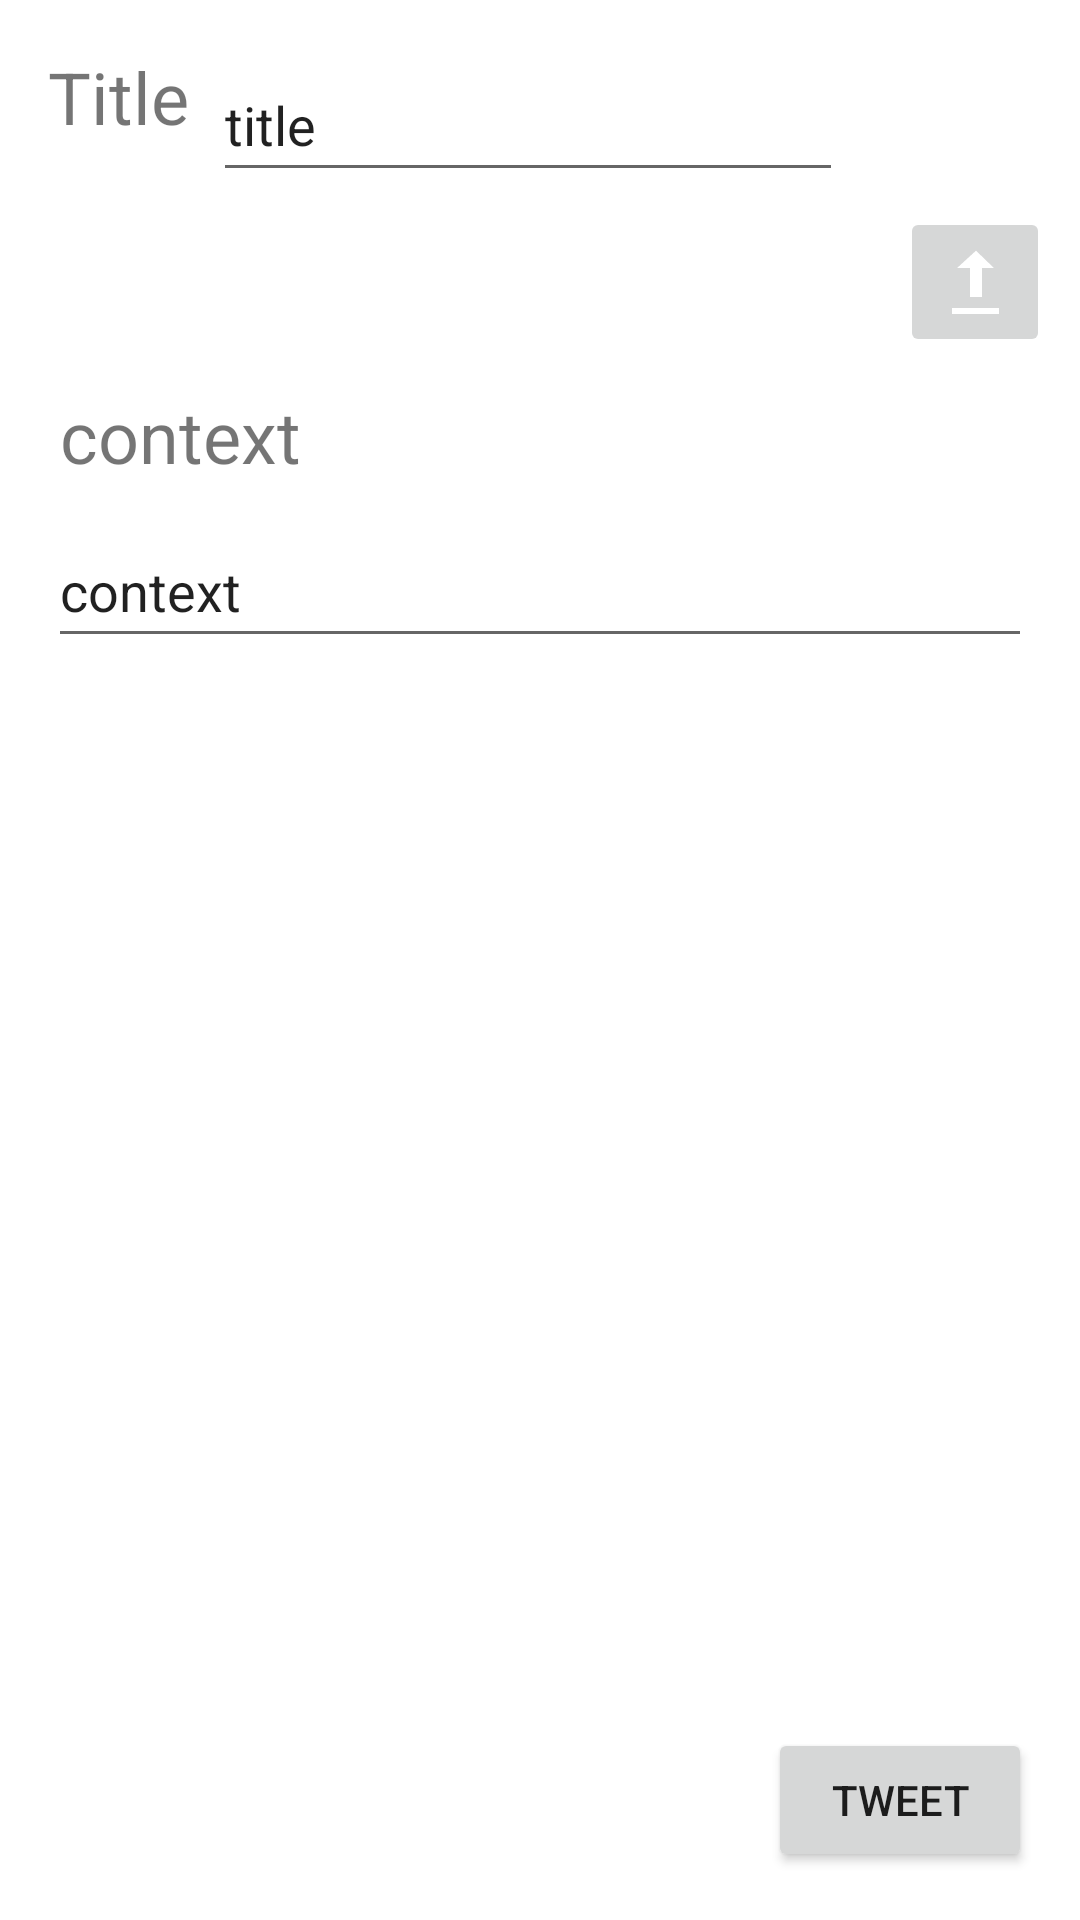

Icon click points for this 1080px×1920px phone screenshot, format [x,y]:
upload: [975,282]
